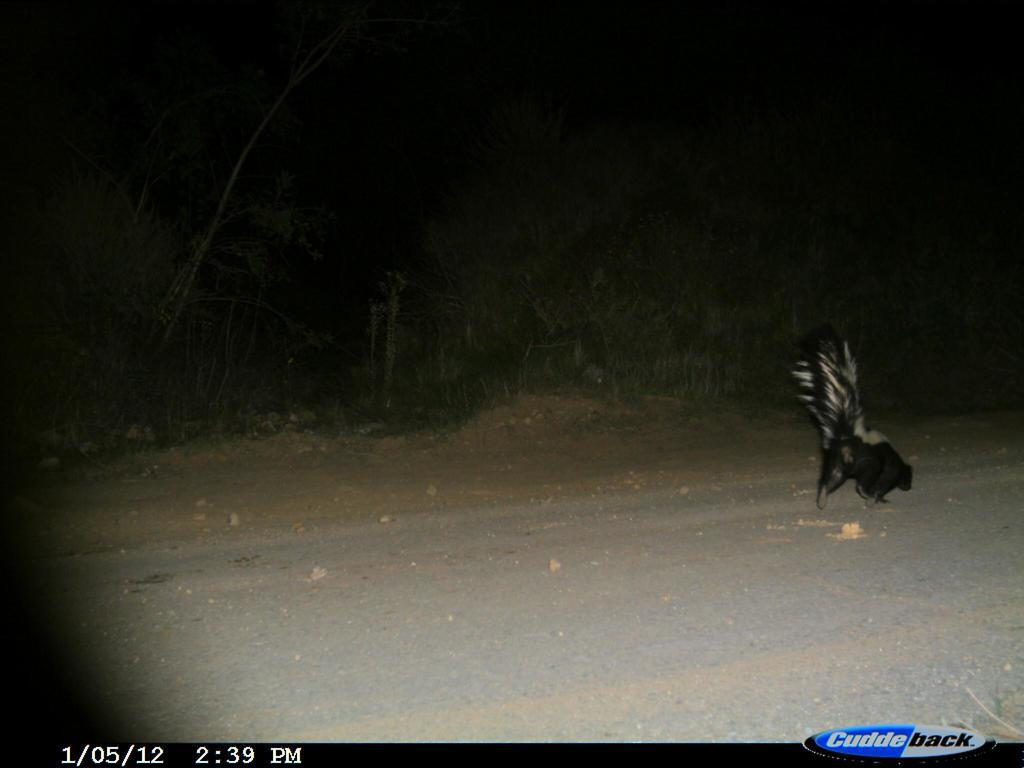skunk: (793, 318, 921, 514)
